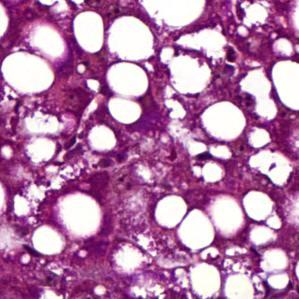steatosis: (0, 49, 53, 94), (197, 97, 246, 144), (106, 64, 150, 95), (242, 188, 279, 221), (149, 196, 185, 228)
